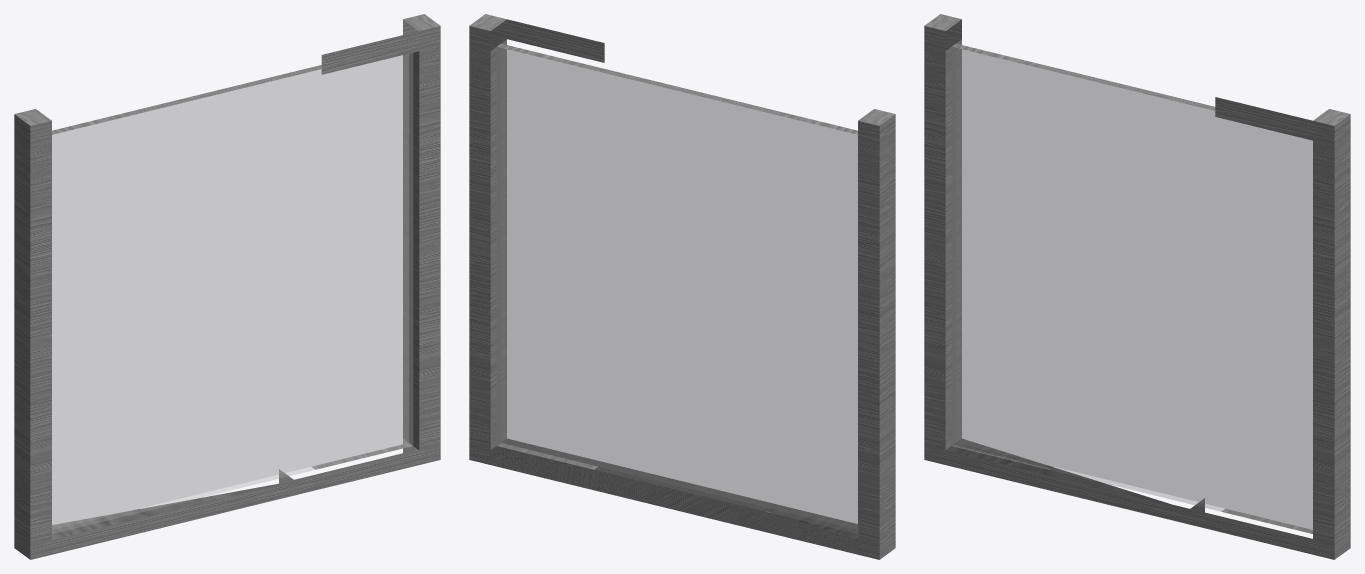
Rendered from correct_door_morph.gltf.
3 renders of one model, left to right at view 1: azimuth 30°, elevation 25°; view 2: azimuth 150°, elevation 25°; view 3: azimuth 330°, elevation 25°, orthographic.
Parts seen in each view (by area): view 1: Door; view 2: Door; view 3: Door.
Part boxes in pixels (x1=…): Door: x1=14, y1=14, x2=440, y2=559; Door: x1=469, y1=14, x2=895, y2=559; Door: x1=924, y1=14, x2=1350, y2=559.
Bounding box in the file's own units: 4.54 × 4.59 × 0.3117.
Materials: 2 (1 with a texture image).
